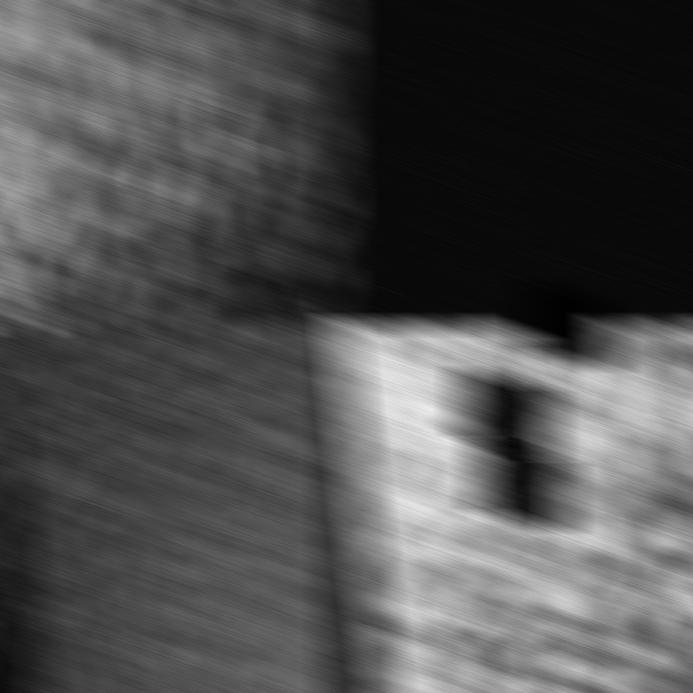Airbag: (329, 322, 693, 693), (0, 322, 348, 693), (0, 0, 348, 328)
